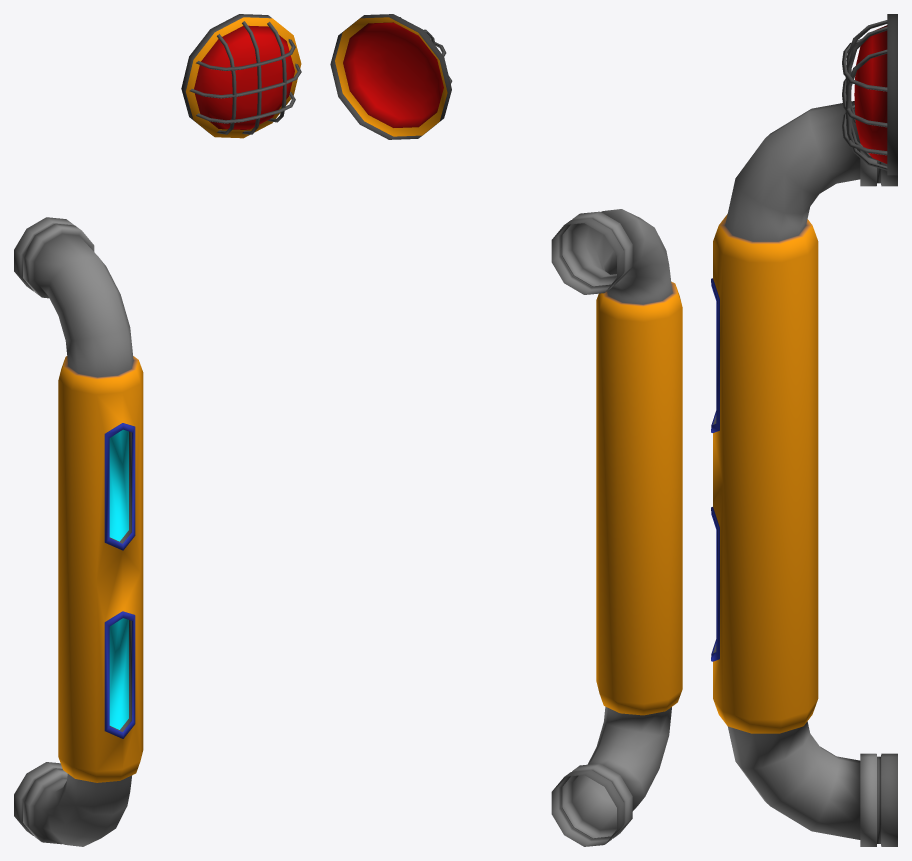
File: thinggythings.fbx
3 renders of one model, left to right at view 1: azimuth 30°, elevation 25°; view 2: azimuth 150°, elevation 25°; view 3: azimuth 270°, elevation 25°, orthographic. The views are drawn at different scales.
Parts seen in each view (by area): view 1: Pipe00, AlarmLamp00; view 2: Pipe00, AlarmLamp00; view 3: Pipe00, AlarmLamp00.
Part boxes in pixels (<box>): Pipe00: <box>14,217,143,846</box>; AlarmLamp00: <box>181,14,301,138</box>; Pipe00: <box>551,209,682,846</box>; AlarmLamp00: <box>330,14,452,139</box>; Pipe00: <box>711,101,897,846</box>; AlarmLamp00: <box>842,14,897,175</box>.
Bounding box in the file's own units: 74.28 × 191 × 34.62.
